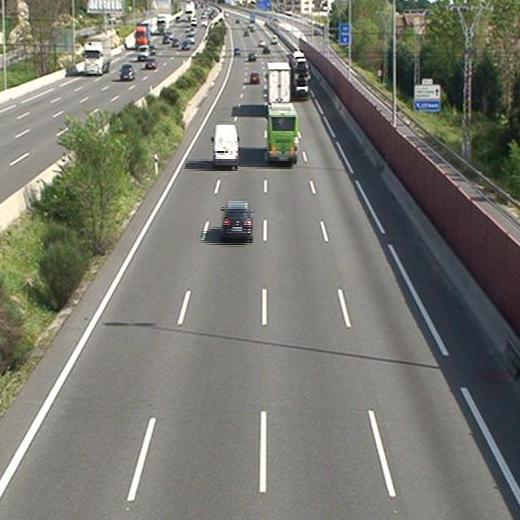bus: (266, 103, 300, 163)
car: (221, 201, 252, 238), (297, 58, 308, 73), (249, 71, 259, 83)
truck: (265, 63, 292, 111), (289, 52, 310, 98)
van: (213, 124, 239, 165)
